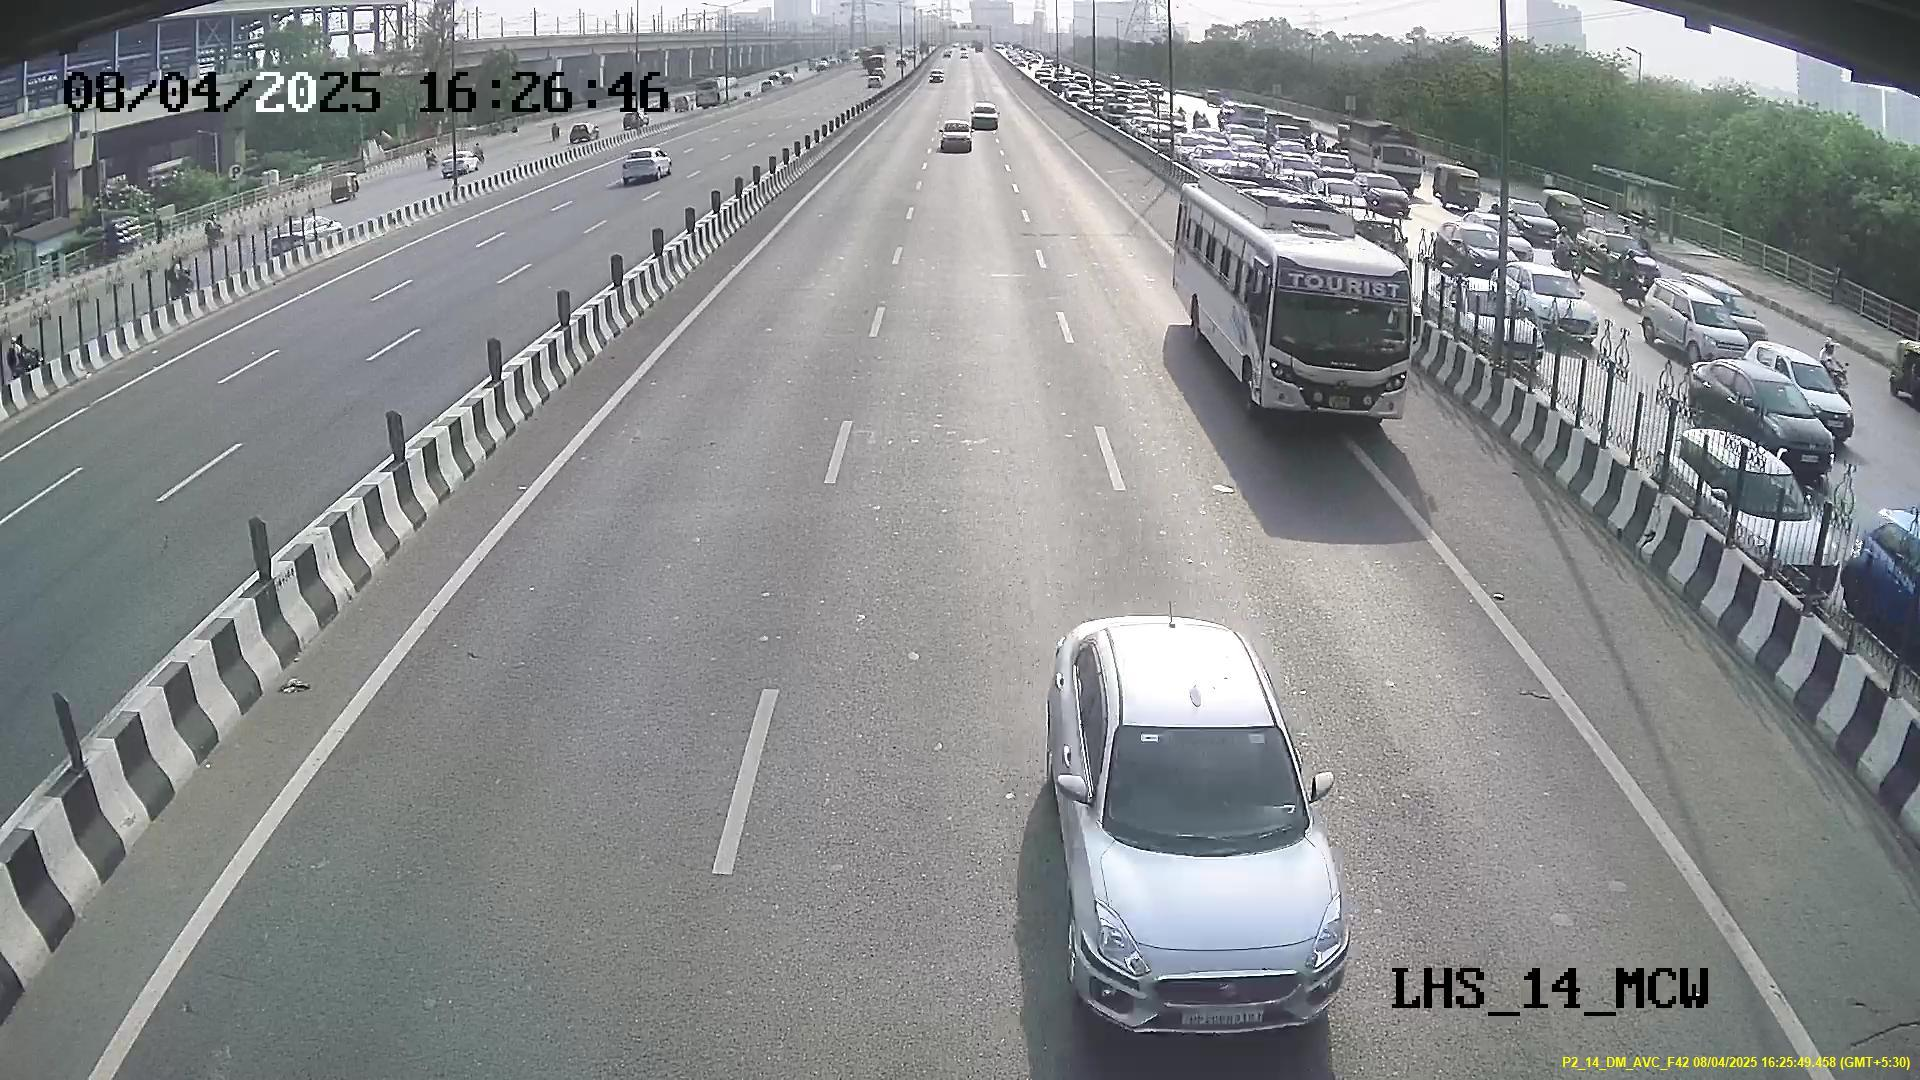bus: (1221, 207, 1423, 429)
car: (1044, 709, 1356, 1038)
